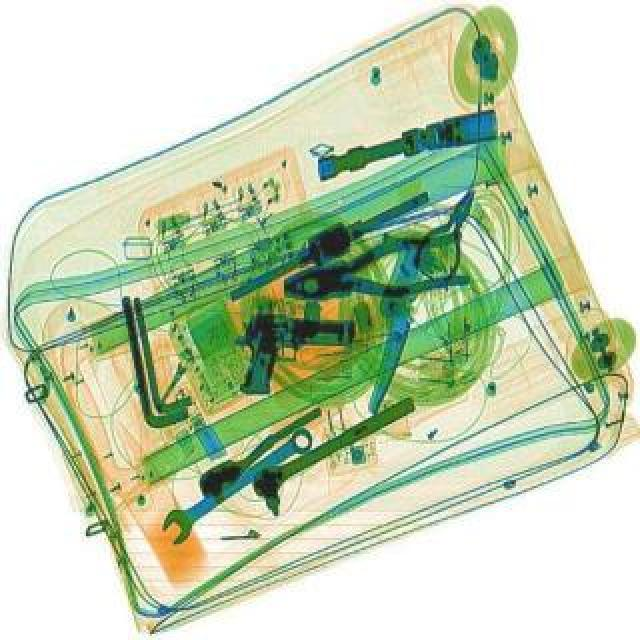gun: (226, 310, 358, 400)
scissors: (152, 418, 320, 548)
wrench: (276, 230, 468, 314), (402, 178, 496, 288)
